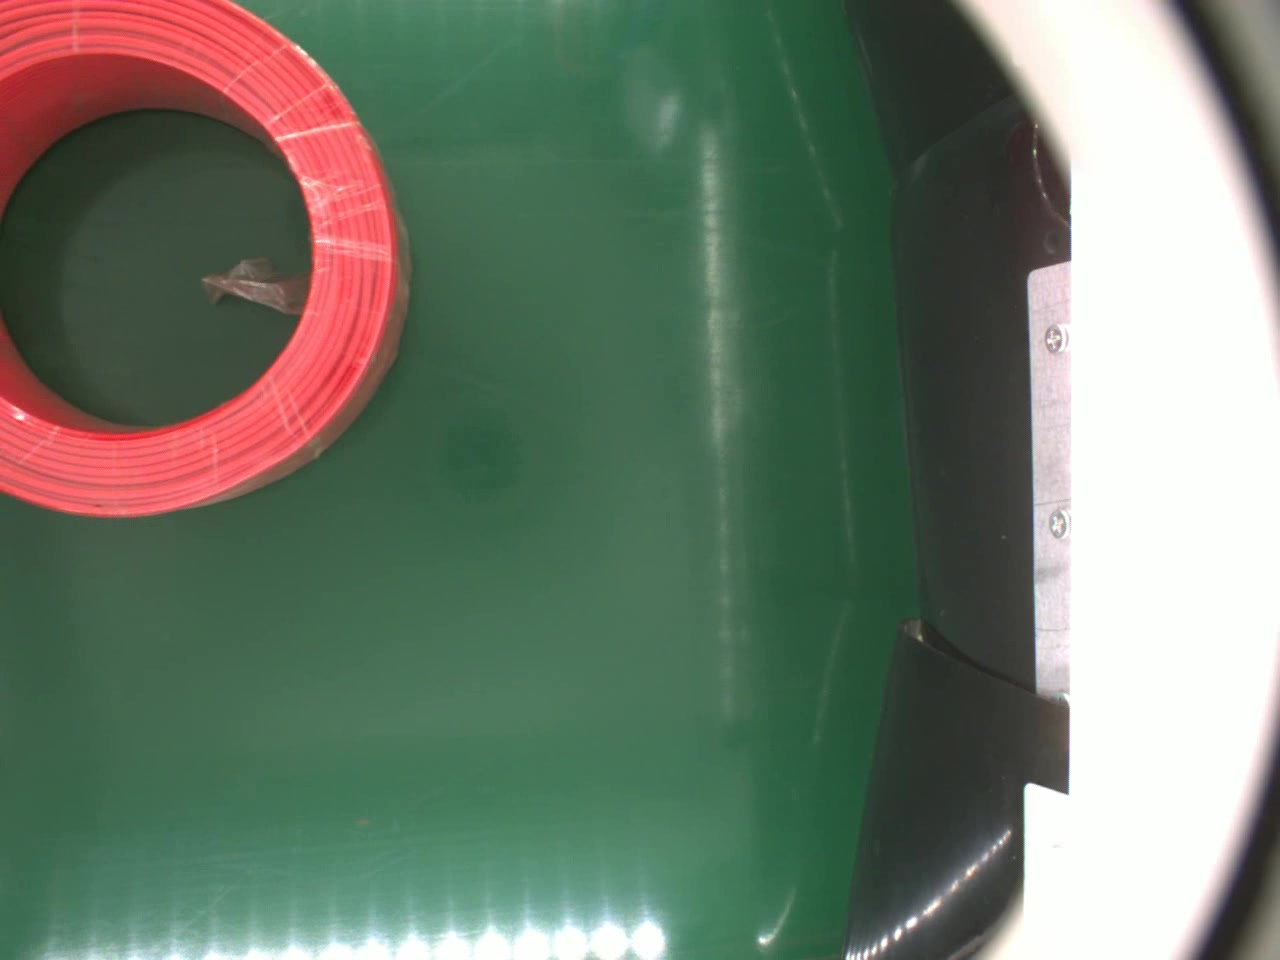red: (0, 0, 414, 522)
